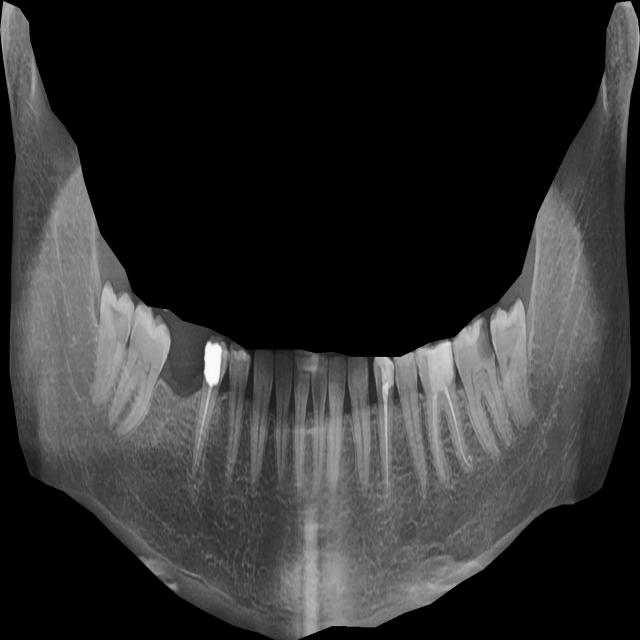mandibula: (0, 1, 640, 640)
